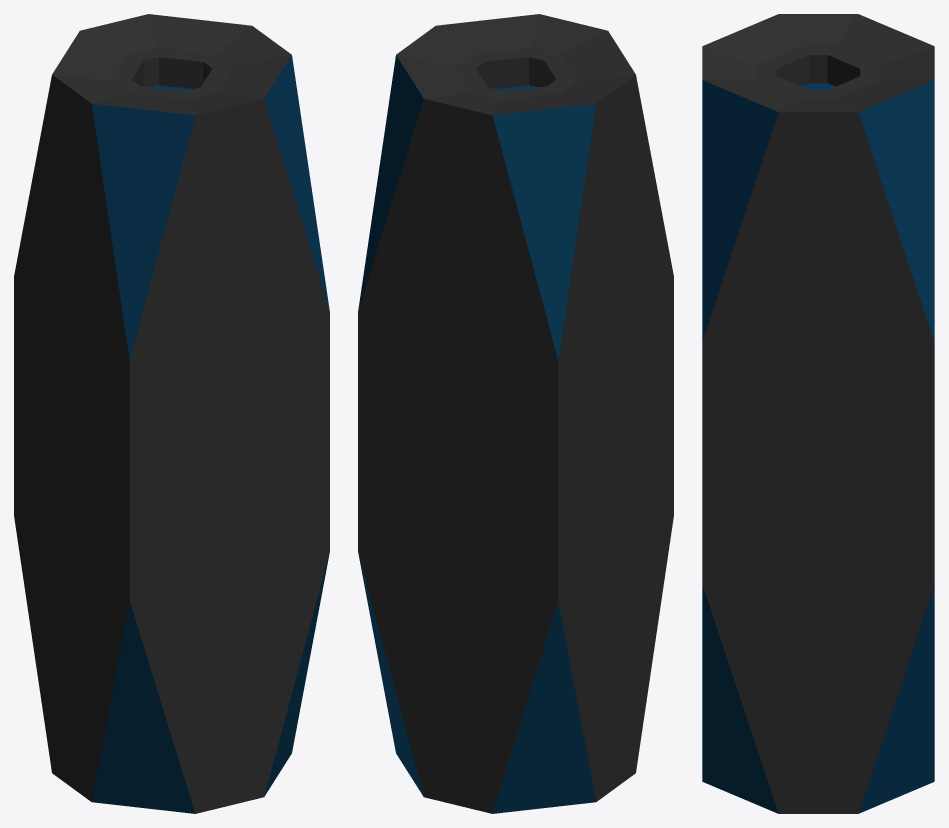
Rendered from CollectibleMesh.fbx.
3 views of the same model, side by side, from view 1: azimuth 30°, elevation 25°; view 2: azimuth 150°, elevation 25°; view 3: azimuth 270°, elevation 25° (orthographic).
Parts seen in each view (by area): view 1: HealthCannister; view 2: HealthCannister; view 3: HealthCannister.
Boxes of the visible parts, x1,y1,x2,y2 form: HealthCannister: [14, 14, 329, 813]; HealthCannister: [358, 14, 673, 813]; HealthCannister: [702, 14, 934, 813].
Size of the model in its own units: 17.88 by 59.6 by 17.88.
